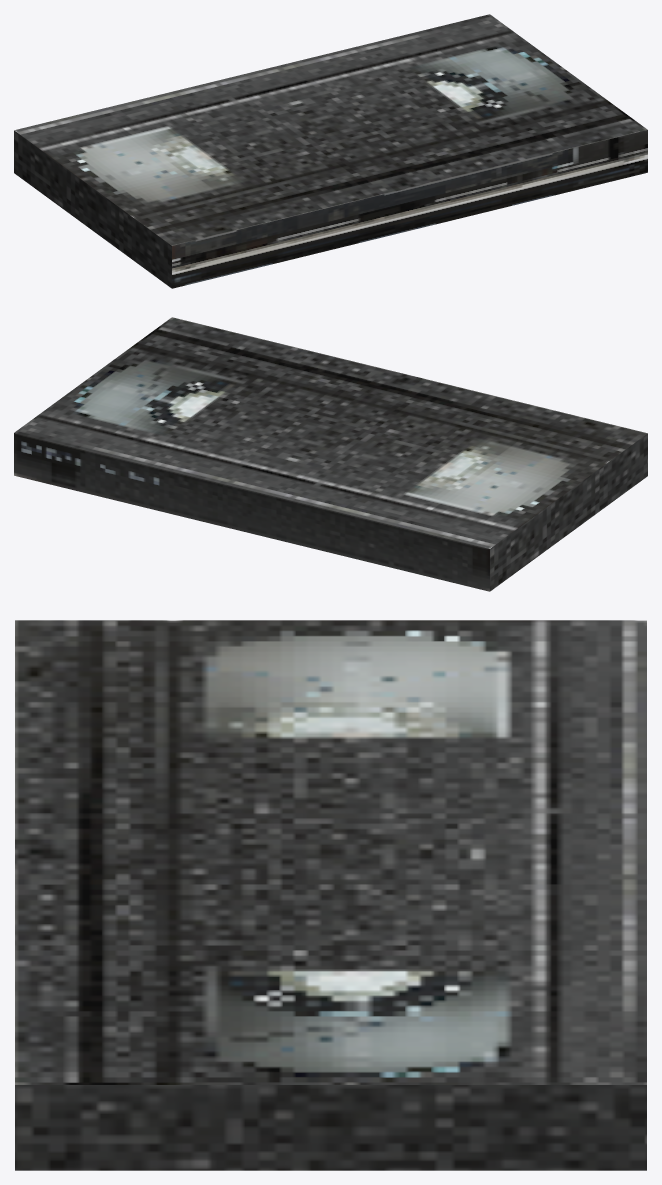
The model's file is Vhs_Tape_FREE.fbx.
The picture shows the model from 3 angles, top to bottom: view 1: azimuth 30°, elevation 25°; view 2: azimuth 150°, elevation 25°; view 3: azimuth 270°, elevation 25°; orthographic projection. The views are drawn at different scales.
Parts seen in each view (by area): view 1: vhs_tape; view 2: vhs_tape; view 3: vhs_tape.
Boxes of the visible parts, left/top/right/bottom form: vhs_tape: left=14, top=14, right=647, bottom=288; vhs_tape: left=14, top=317, right=647, bottom=591; vhs_tape: left=15, top=620, right=646, bottom=1170.
Bounding box in the file's own units: 11.93 × 1.02 × 6.86.
1 material, 1 textured.
